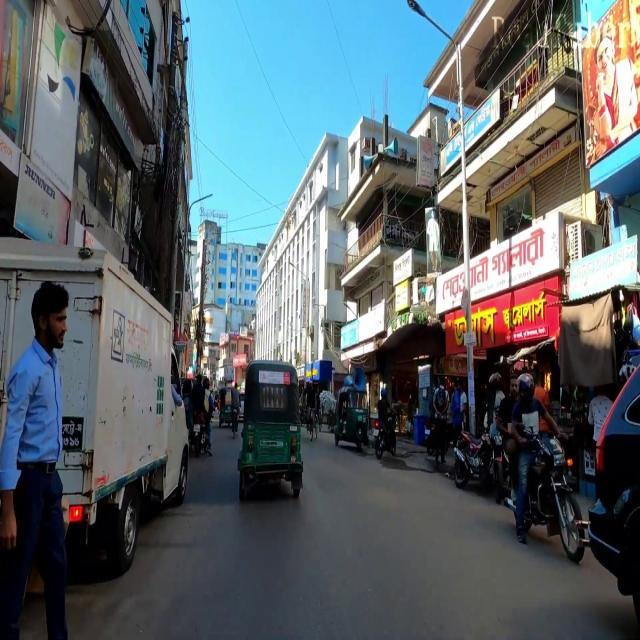black: (592, 348, 640, 622)
